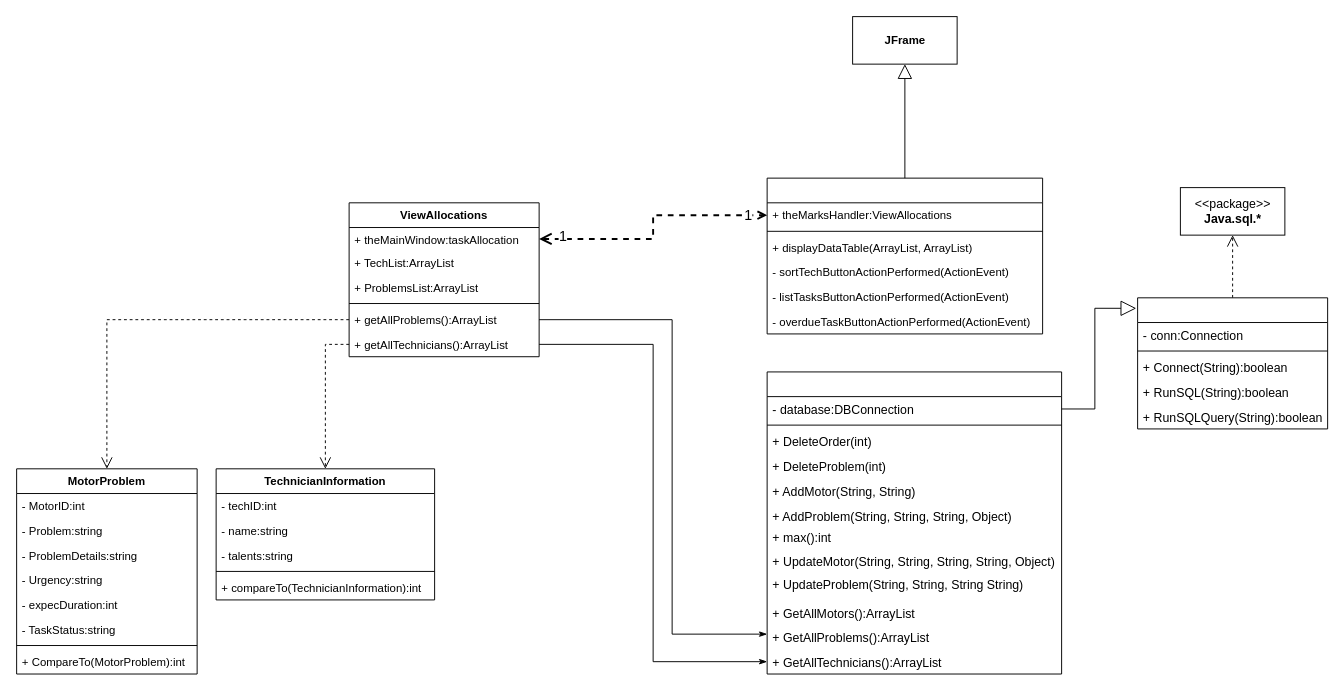
This 1344x694 diagram has some shape labels left out. Here are the shapes that lost their labels. From the top down, the box of each, then its label:
(766, 177, 1043, 334): taskAllocation
(1137, 297, 1328, 429): DBConnection
(766, 371, 1062, 674): DBMain
